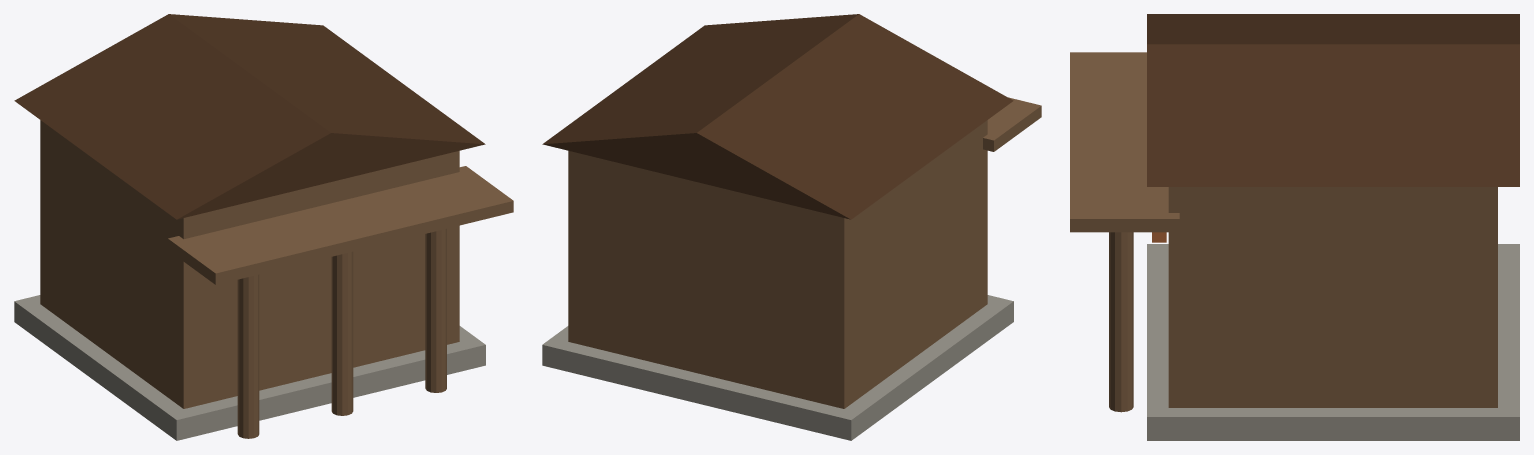
Rendered from bld_commercial_a01.glb.
The picture shows the model from 3 angles, left to right: view 1: azimuth 30°, elevation 25°; view 2: azimuth 150°, elevation 25°; view 3: azimuth 270°, elevation 25°; orthographic projection. The views are drawn at different scales.
Visible parts, largest first — view 1: body; view 2: body; view 3: body.
Boxes of the visible parts, <box> form: body: <box>14,14,513,440</box>; body: <box>542,14,1041,440</box>; body: <box>1070,14,1519,440</box>.
Size of what is drawn, in the model's own units: 5.6 by 4.68 by 6.15.
